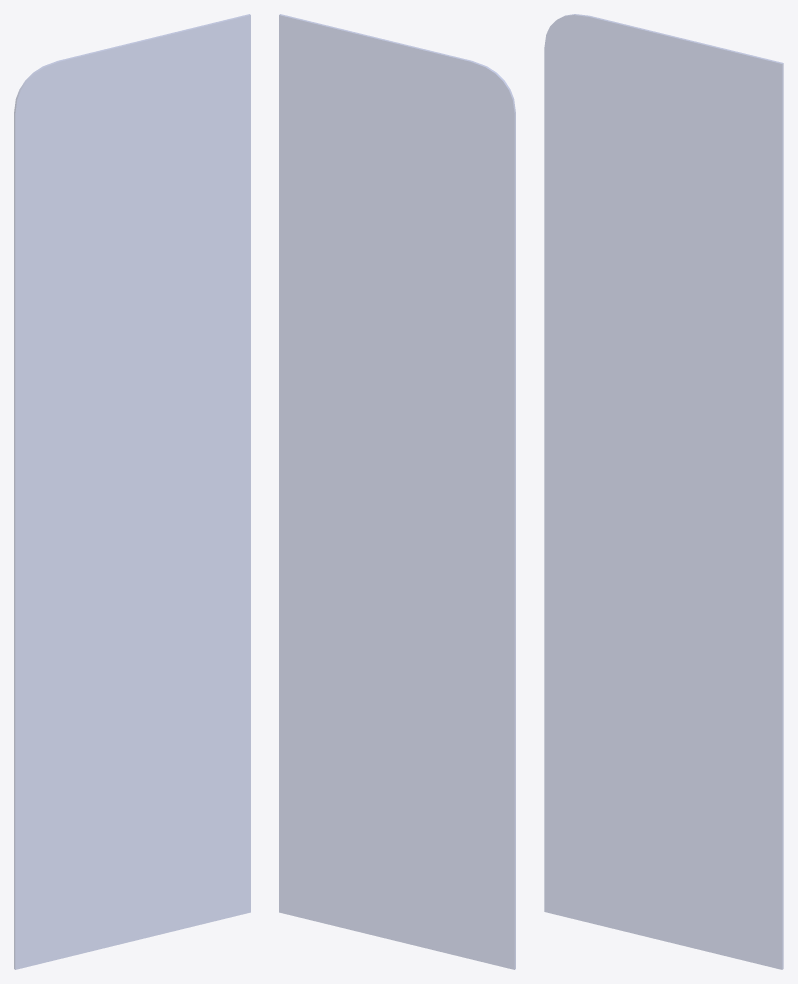
The model's file is slidingDoor1-Alpha.glb.
3 views of the same model, side by side, from view 1: azimuth 30°, elevation 25°; view 2: azimuth 150°, elevation 25°; view 3: azimuth 330°, elevation 25° (orthographic).
Parts seen in each view (by area): view 1: doorL Alpha; view 2: doorL Alpha; view 3: doorL Alpha.
Part boxes in pixels (bbox=[...]): doorL Alpha: bbox=[14, 14, 250, 969]; doorL Alpha: bbox=[279, 14, 515, 969]; doorL Alpha: bbox=[544, 14, 783, 969].
Bounding box in the file's own units: 0.9866 × 3.59 × 0.01.
